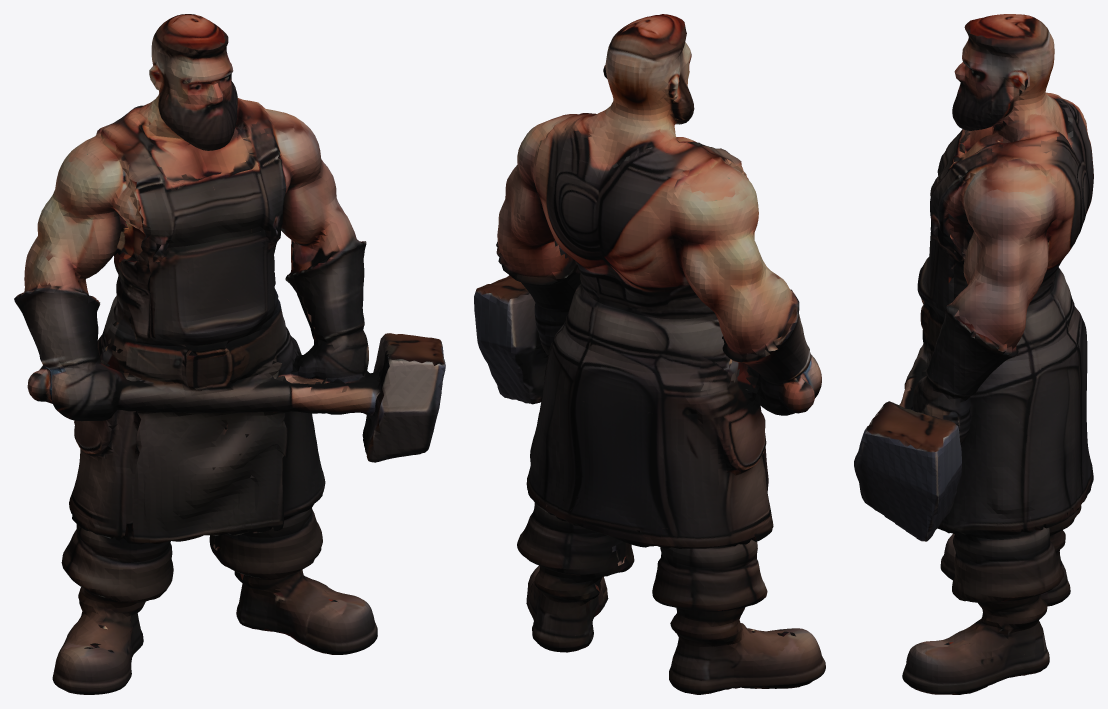
The model's file is body.glb.
The picture shows the model from 3 angles, left to right: view 1: azimuth 30°, elevation 25°; view 2: azimuth 150°, elevation 25°; view 3: azimuth 270°, elevation 25°; orthographic projection. The views are drawn at different scales.
Parts seen in each view (by area): view 1: geometry_0; view 2: geometry_0; view 3: geometry_0.
Boxes of the visible parts, box(x1,y1,x2,y2) form: geometry_0: box(14, 14, 445, 694); geometry_0: box(474, 14, 825, 694); geometry_0: box(854, 14, 1093, 694).
Size of the model in its own units: 1.22 by 1.96 by 0.6933.
1 material, 1 textured.
